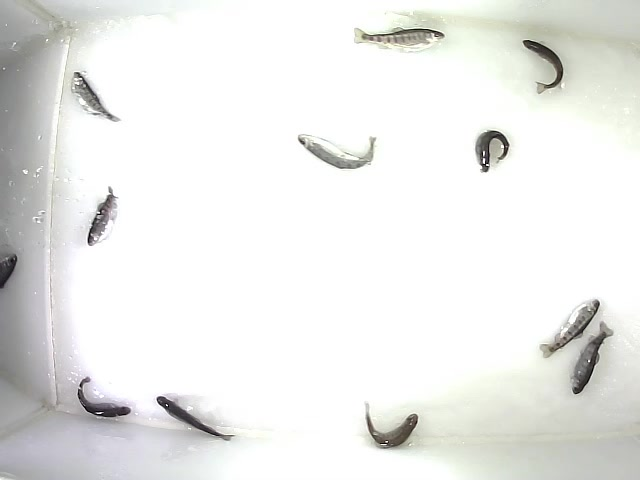fish: (154, 394, 237, 443), (538, 297, 601, 359), (569, 319, 614, 395), (296, 132, 377, 171), (362, 399, 419, 451), (70, 70, 123, 125), (352, 24, 447, 54), (75, 375, 133, 420), (521, 39, 564, 97), (85, 184, 120, 249), (473, 127, 511, 175)
